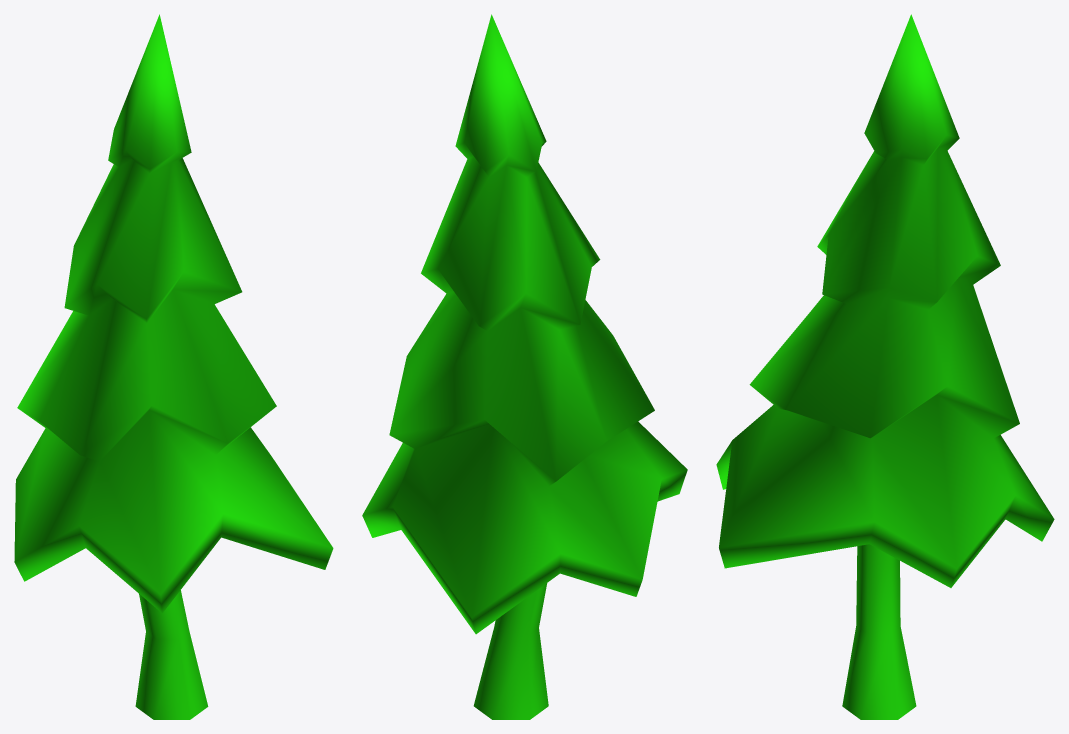
The model's file is tree.fbx.
The picture shows the model from 3 angles, left to right: view 1: azimuth 30°, elevation 25°; view 2: azimuth 150°, elevation 25°; view 3: azimuth 270°, elevation 25°; orthographic projection. The views are drawn at different scales.
Parts seen in each view (by area): view 1: rpgpp_lt_tree_pine_01; view 2: rpgpp_lt_tree_pine_01; view 3: rpgpp_lt_tree_pine_01.
Part boxes in pixels (x1,y1,x2,y2): rpgpp_lt_tree_pine_01: [14, 14, 333, 719]; rpgpp_lt_tree_pine_01: [362, 14, 687, 719]; rpgpp_lt_tree_pine_01: [716, 14, 1054, 719].
Bounding box in the file's own units: 311 × 813 × 359.
